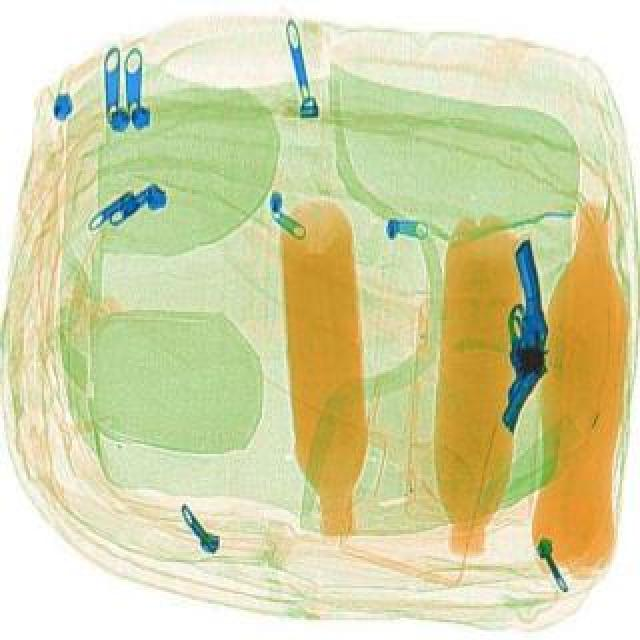gun: (502, 236, 550, 424)
